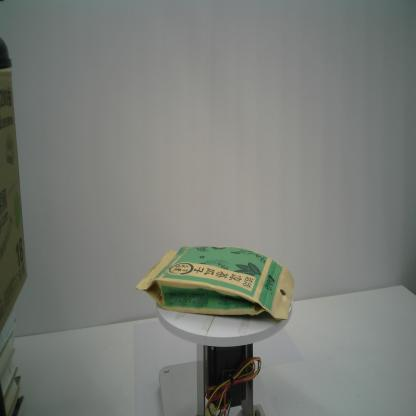Dried Food: (133, 242, 296, 327)
